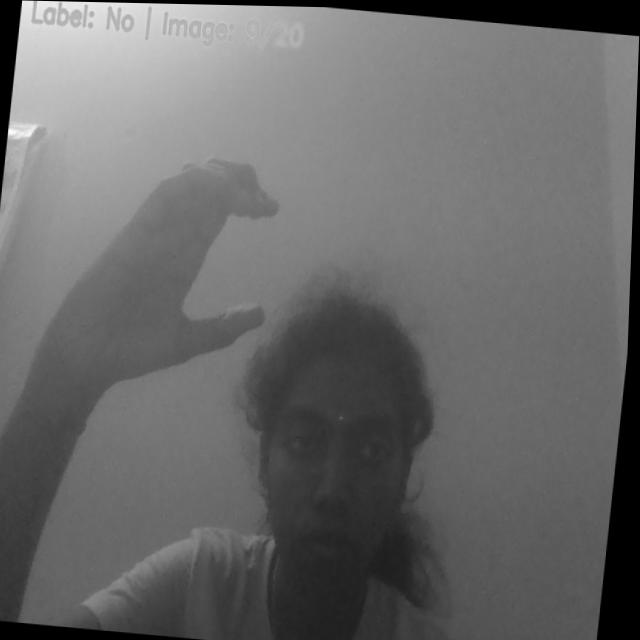No: (47, 141, 291, 388)
